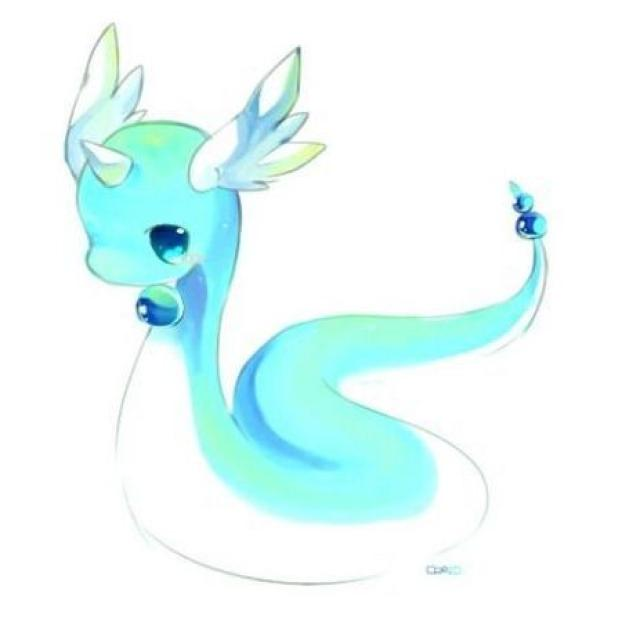Dragonair: (50, 34, 443, 585)
